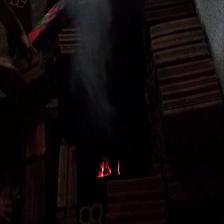fire: (97, 156, 121, 176)
smoke: (72, 2, 117, 121)
